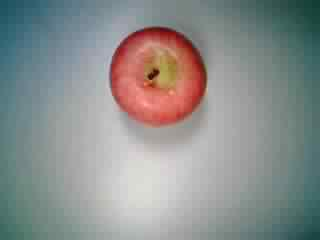apple: (105, 24, 209, 128)
